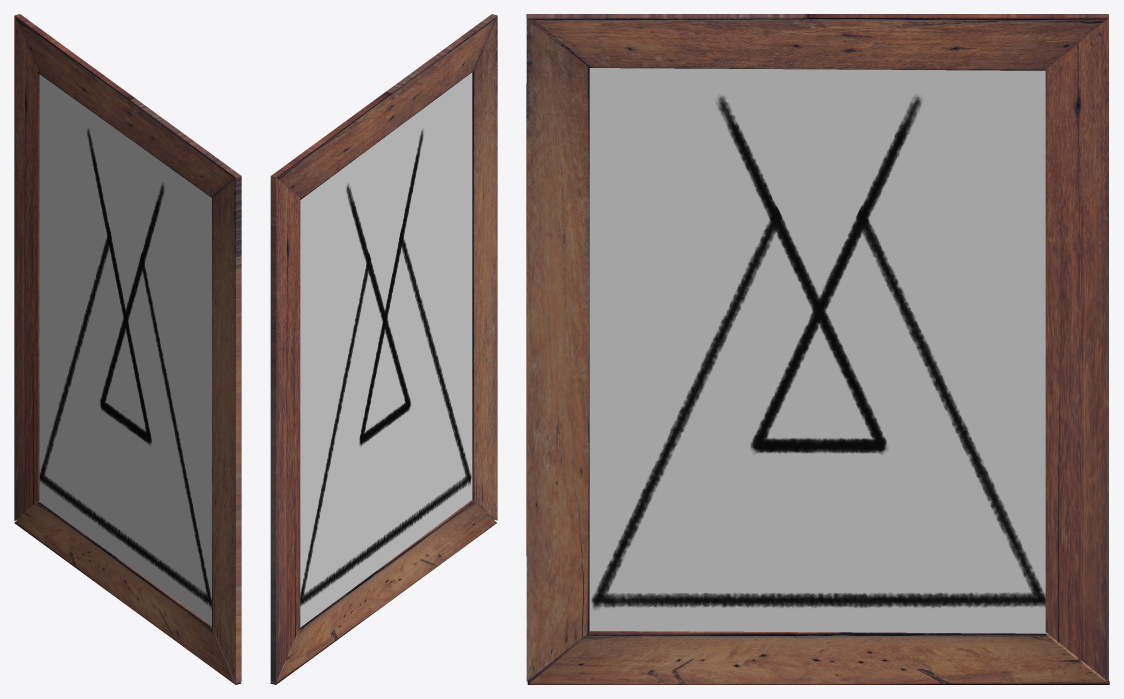
The model's file is quadro_2.fbx.
The picture shows the model from 3 angles, left to right: view 1: azimuth 30°, elevation 25°; view 2: azimuth 150°, elevation 25°; view 3: azimuth 270°, elevation 25°; orthographic projection. The views are drawn at different scales.
Parts seen in each view (by area): view 1: Cube.006; view 2: Cube.006; view 3: Cube.006.
Part boxes in pixels (x1,y1,x2,y2): Cube.006: (14,14,241,684); Cube.006: (270,14,497,684); Cube.006: (526,14,1109,684).
Size of the model in its own units: 1.05 by 88.59 by 70.19.
2 materials, 2 textured.
